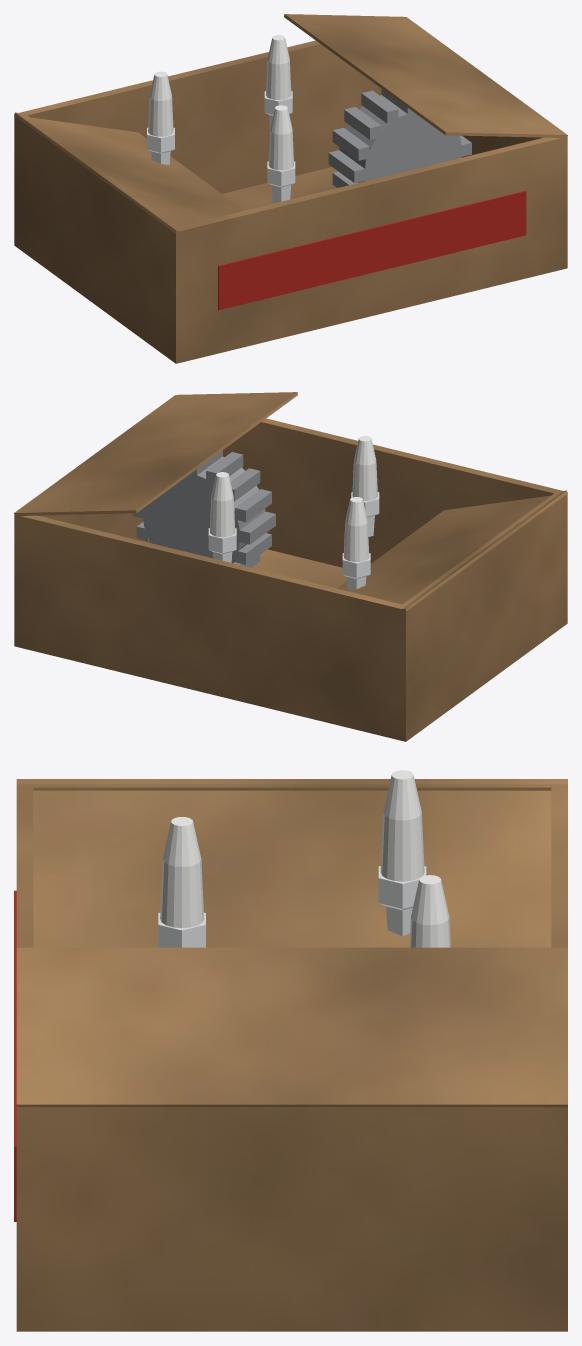
File: peca_motor.glb
The picture shows the model from 3 angles, top to bottom: view 1: azimuth 30°, elevation 25°; view 2: azimuth 150°, elevation 25°; view 3: azimuth 270°, elevation 25°; orthographic projection. The views are drawn at different scales.
Visible parts, largest first — view 1: peca_motor_papelao, peca_motor_tinta_vermelha, peca_motor_motor, peca_motor_plastico_branco, peca_motor_aco_polido; view 2: peca_motor_papelao, peca_motor_motor, peca_motor_plastico_branco, peca_motor_aco_polido; view 3: peca_motor_papelao, peca_motor_plastico_branco, peca_motor_aco_polido, peca_motor_tinta_vermelha.
Part boxes in pixels (bbox=[...]): peca_motor_papelao: bbox=[14, 14, 567, 363]; peca_motor_tinta_vermelha: bbox=[218, 191, 526, 310]; peca_motor_motor: bbox=[328, 89, 471, 187]; peca_motor_plastico_branco: bbox=[148, 35, 294, 170]; peca_motor_aco_polido: bbox=[147, 91, 295, 203]; peca_motor_papelao: bbox=[14, 392, 567, 741]; peca_motor_motor: bbox=[132, 450, 275, 567]; peca_motor_plastico_branco: bbox=[209, 436, 377, 561]; peca_motor_aco_polido: bbox=[208, 492, 379, 590]; peca_motor_papelao: bbox=[16, 779, 567, 1331]; peca_motor_plastico_branco: bbox=[160, 770, 450, 947]; peca_motor_aco_polido: bbox=[158, 866, 426, 947]; peca_motor_tinta_vermelha: bbox=[14, 890, 16, 1221].
Bounding box in the file's own units: 0.2806 × 0.125 × 0.201.
Materials: 5 (1 with a texture image).
